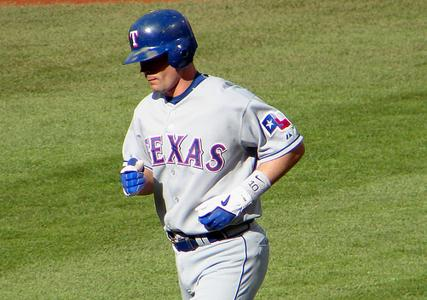person: (121, 9, 308, 300)
